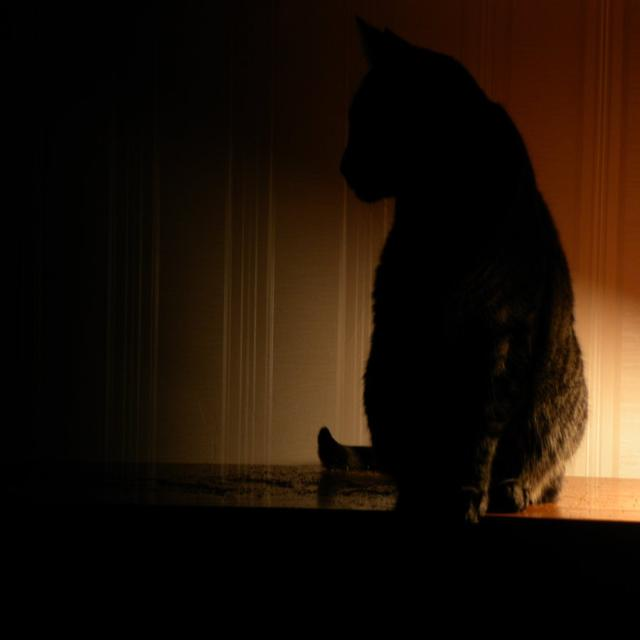Cat: (282, 11, 613, 516)
